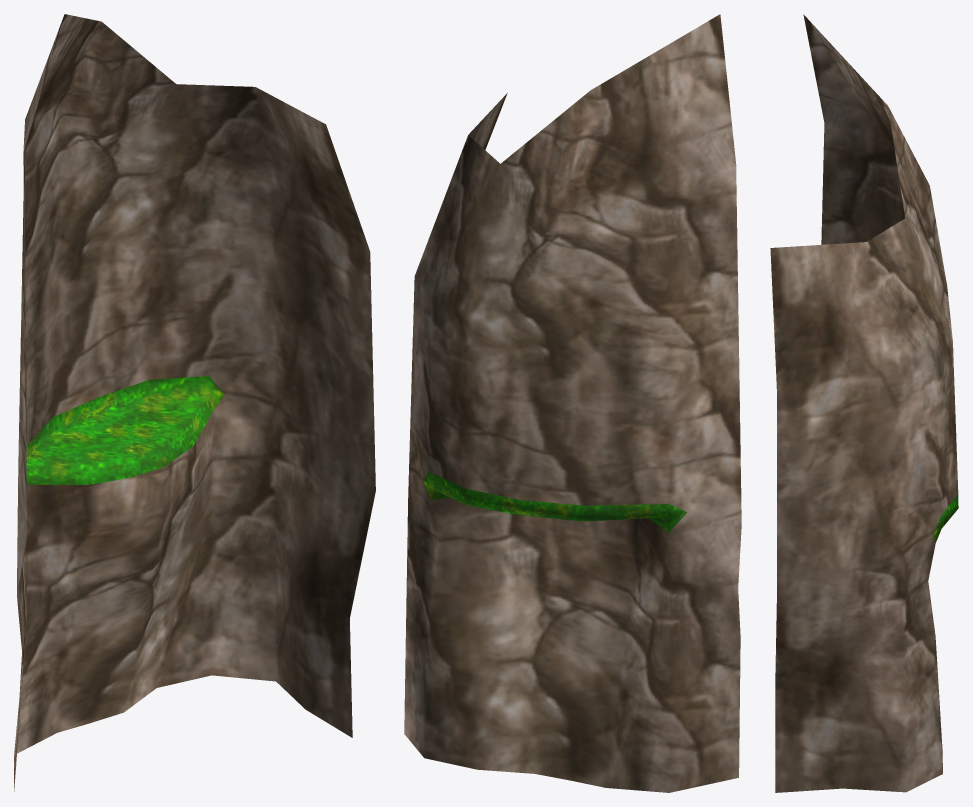
The model's file is EKH_ENTRANCE_PS_EN_WALL_CHUNK_437__GX.fbx.
3 renders of one model, left to right at view 1: azimuth 30°, elevation 25°; view 2: azimuth 150°, elevation 25°; view 3: azimuth 270°, elevation 25°, orthographic. The views are drawn at different scales.
Visible parts, largest first — view 1: EKH_ENTRANCE_PS_EN_WALL_CHUNK_437__GX; view 2: EKH_ENTRANCE_PS_EN_WALL_CHUNK_437__GX; view 3: EKH_ENTRANCE_PS_EN_WALL_CHUNK_437__GX.
Boxes of the visible parts, box(x1,y1,x2,y2) form: EKH_ENTRANCE_PS_EN_WALL_CHUNK_437__GX: box(14, 14, 375, 791); EKH_ENTRANCE_PS_EN_WALL_CHUNK_437__GX: box(404, 14, 741, 792); EKH_ENTRANCE_PS_EN_WALL_CHUNK_437__GX: box(770, 14, 958, 792).
Bounding box in the file's own units: 66003 × 148989 × 37998.
Materials: 2 (2 with a texture image).
